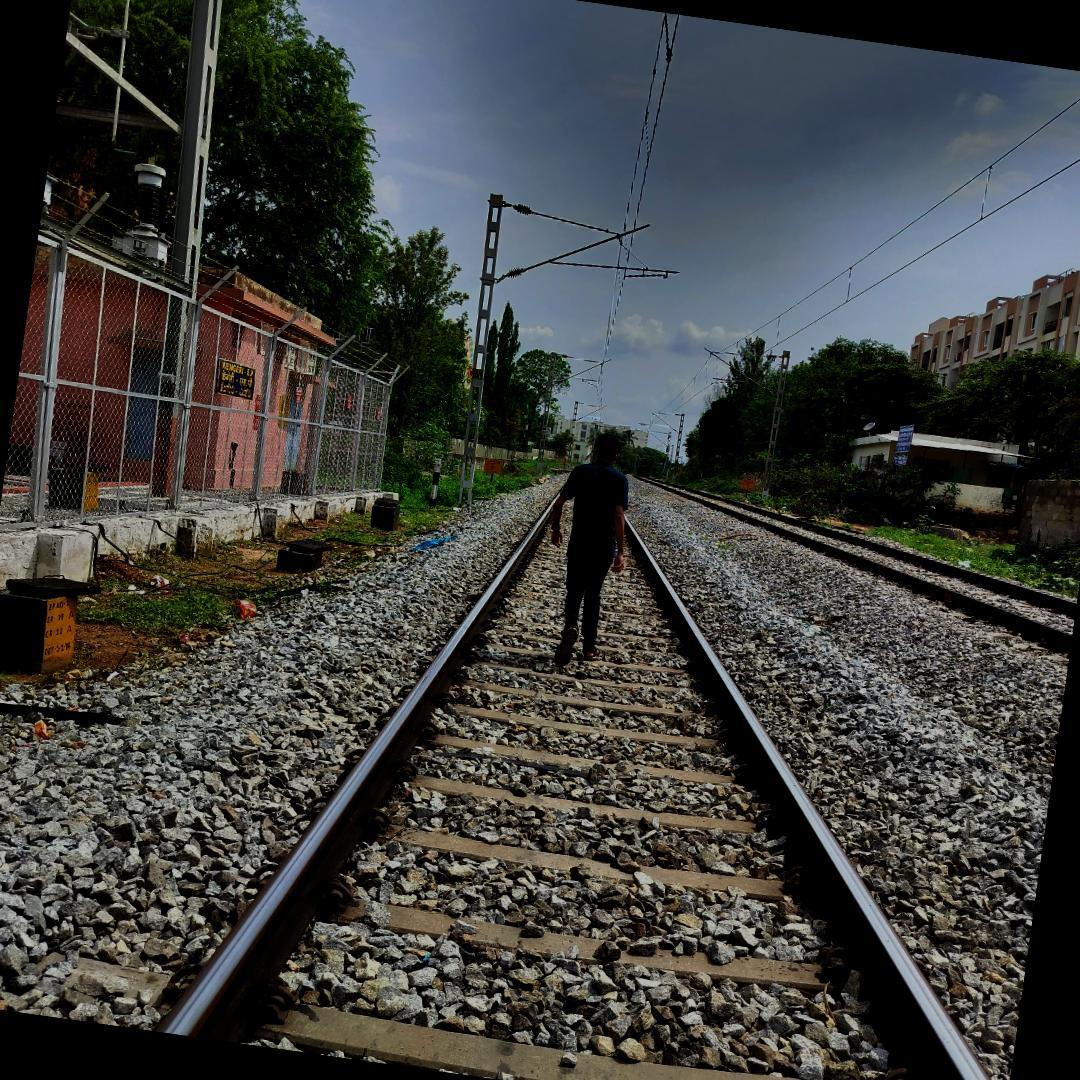standing: (545, 425, 641, 679)
track: (144, 480, 1011, 1080)
